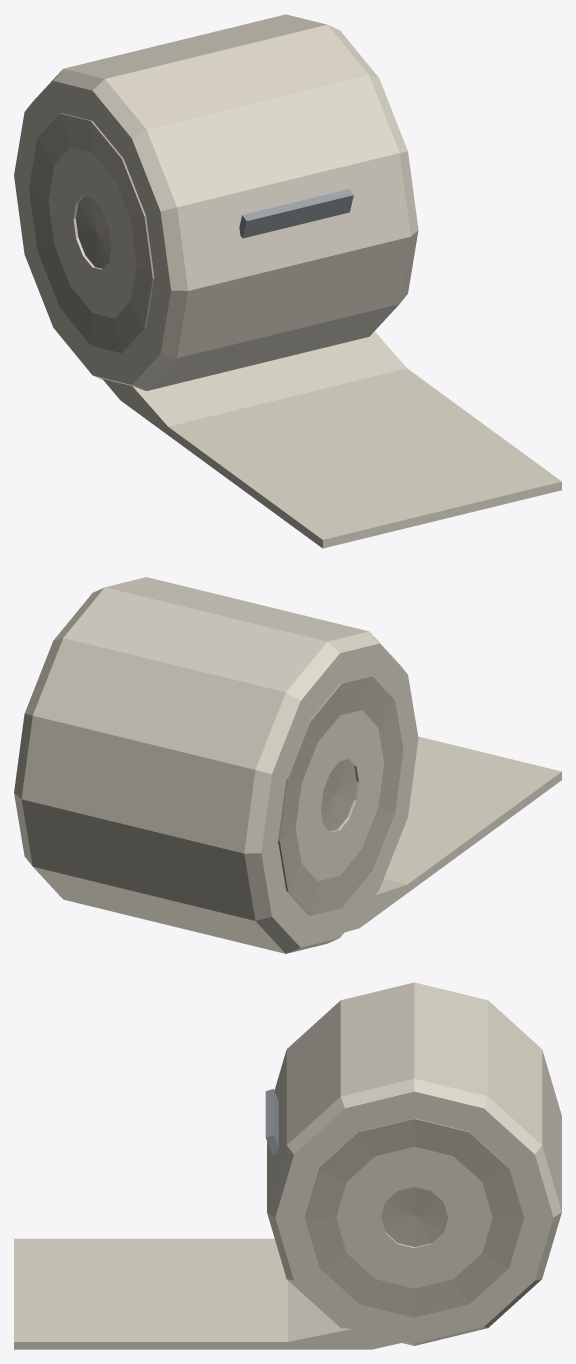
File: bandage.glb
3 renders of one model, top to bottom at view 1: azimuth 30°, elevation 25°; view 2: azimuth 150°, elevation 25°; view 3: azimuth 270°, elevation 25°, orthographic. The views are drawn at different scales.
Parts seen in each view (by area): view 1: roll, end, core, pin; view 2: roll, end, core; view 3: roll, end, core, pin.
Part boxes in pixels (left/top/right/bottom): roll: left=14, top=14, right=418, bottom=390; end: left=102, top=331, right=561, bottom=548; core: left=29, top=113, right=154, bottom=352; pin: left=239, top=189, right=353, bottom=238; roll: left=14, top=577, right=418, bottom=953; end: left=345, top=736, right=561, bottom=932; core: left=278, top=676, right=403, bottom=915; roll: left=267, top=982, right=561, bottom=1345; end: left=14, top=1238, right=404, bottom=1349; core: left=305, top=1118, right=523, bottom=1317; pin: left=265, top=1089, right=278, bottom=1155.
Bounding box in the file's own units: 0.0608 × 0.07 × 0.13.
Materials: 3 (3 with a texture image).
